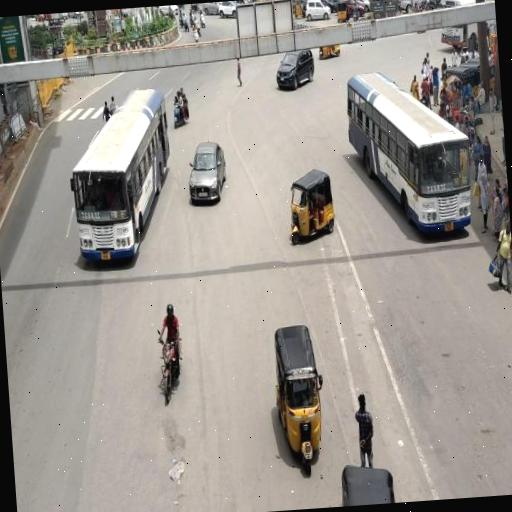helmet: (150, 294, 216, 425), (171, 84, 192, 129)
